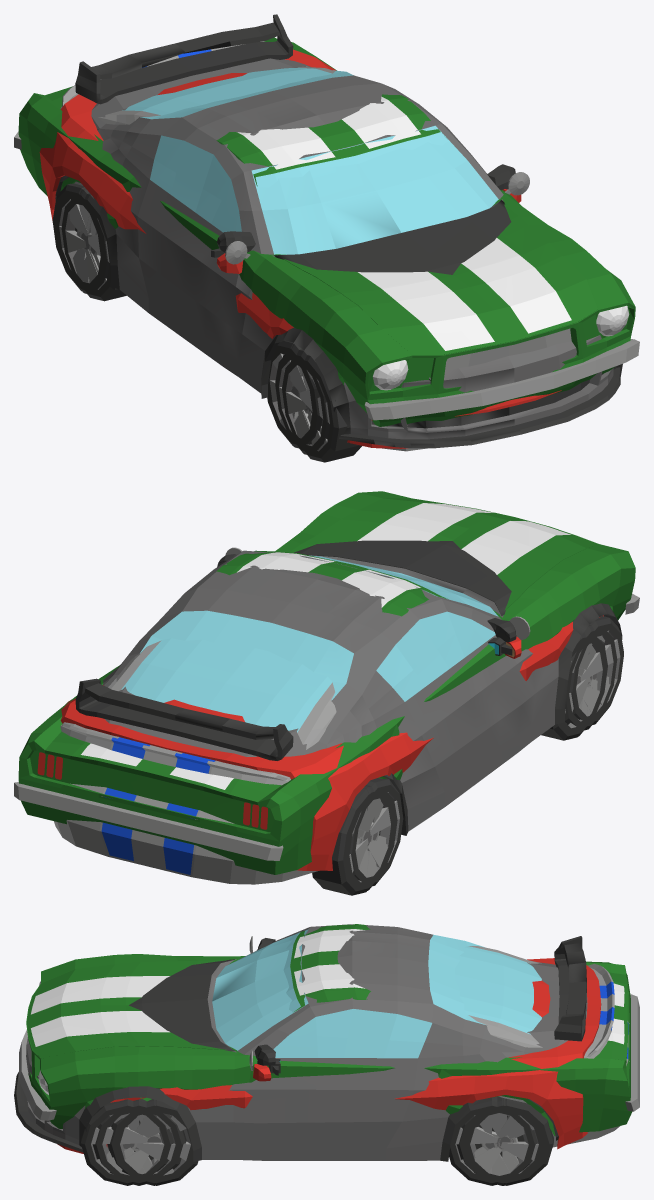
File: Car_Factory_Cars_Retransformed.fbx
3 views of the same model, one above another, from view 1: azimuth 30°, elevation 25°; view 2: azimuth 150°, elevation 25°; view 3: azimuth 270°, elevation 25° (orthographic). The views are drawn at different scales.
Parts seen in each view (by area): view 1: Nissan_350z, Ford_Mustang_1969, Ford_Mustang_1969_Hood, Chevrolette_Corvette_C7, Nissan_350z_Hood, Shelby_Gt500, Ford_Mustang_1969_Front_Tire_Right, Shelby_Gt500_Rear_Tires, Ford_Mustang_1969_Rear_Tires, Nissan_350z_Front_Tire_Right, Chevrolette_Corvette_C7_Front_Tire_Right, Chevrolette_Corvette_C7_Rear_Tires (+1 smaller); view 2: Nissan_350z, Ford_Mustang_1969, Shelby_Gt500, Ford_Mustang_1969_Hood, Chevrolette_Corvette_C7, Nissan_350z_Hood, Chevrolette_Corvette_C7_Rear_Tires, Shelby_Gt500_Rear_Tires, Ford_Mustang_1969_Front_Tire_Right, Nissan_350z_Front_Tire_Right, Ford_Mustang_1969_Rear_Tires, Shelby_Gt500_Front_Tire_Right (+1 smaller); view 3: Nissan_350z, Ford_Mustang_1969, Ford_Mustang_1969_Hood, Chevrolette_Corvette_C7, Shelby_Gt500, Nissan_350z_Hood, Shelby_Gt500_Rear_Tires, Ford_Mustang_1969_Front_Tire_Left, Chevrolette_Corvette_C7_Rear_Tires, Nissan_350z_Front_Tire_Left, Chevrolette_Corvette_C7_Front_Tire_Left, Nissan_350z_Rear_Tires (+2 smaller).
Boxes of the visible parts, x1=… form: Nissan_350z: x1=55, y1=14, x2=620, y2=448; Ford_Mustang_1969: x1=14, y1=37, x2=639, y2=426; Ford_Mustang_1969_Hood: x1=275, y1=199, x2=598, y2=354; Chevrolette_Corvette_C7: x1=39, y1=49, x2=561, y2=448; Nissan_350z_Hood: x1=274, y1=200, x2=511, y2=274; Shelby_Gt500: x1=60, y1=41, x2=427, y2=451; Ford_Mustang_1969_Front_Tire_Right: x1=282, y1=355, x2=361, y2=462; Shelby_Gt500_Rear_Tires: x1=61, y1=193, x2=126, y2=301; Ford_Mustang_1969_Rear_Tires: x1=55, y1=189, x2=109, y2=293; Nissan_350z_Front_Tire_Right: x1=275, y1=349, x2=329, y2=454; Chevrolette_Corvette_C7_Front_Tire_Right: x1=268, y1=344, x2=323, y2=448; Chevrolette_Corvette_C7_Rear_Tires: x1=52, y1=183, x2=102, y2=291; Nissan_350z: x1=75, y1=550, x2=622, y2=835; Ford_Mustang_1969: x1=14, y1=491, x2=639, y2=874; Shelby_Gt500: x1=54, y1=637, x2=512, y2=884; Ford_Mustang_1969_Hood: x1=289, y1=498, x2=597, y2=616; Chevrolette_Corvette_C7: x1=60, y1=615, x2=603, y2=870; Nissan_350z_Hood: x1=294, y1=540, x2=511, y2=615; Chevrolette_Corvette_C7_Rear_Tires: x1=312, y1=788, x2=393, y2=895; Shelby_Gt500_Rear_Tires: x1=349, y1=778, x2=403, y2=886; Ford_Mustang_1969_Front_Tire_Right: x1=569, y1=616, x2=623, y2=724; Nissan_350z_Front_Tire_Right: x1=565, y1=625, x2=617, y2=730; Ford_Mustang_1969_Rear_Tires: x1=346, y1=785, x2=397, y2=889; Shelby_Gt500_Front_Tire_Right: x1=541, y1=636, x2=606, y2=740; Nissan_350z: x1=14, y1=924, x2=587, y2=1161; Ford_Mustang_1969: x1=19, y1=924, x2=639, y2=1135; Ford_Mustang_1969_Hood: x1=27, y1=960, x2=236, y2=1058; Chevrolette_Corvette_C7: x1=57, y1=958, x2=601, y2=1153; Shelby_Gt500: x1=268, y1=946, x2=629, y2=1147; Nissan_350z_Hood: x1=129, y1=959, x2=234, y2=1051; Shelby_Gt500_Rear_Tires: x1=449, y1=1097, x2=537, y2=1185; Ford_Mustang_1969_Front_Tire_Left: x1=80, y1=1099, x2=174, y2=1185; Chevrolette_Corvette_C7_Rear_Tires: x1=464, y1=1098, x2=553, y2=1185; Nissan_350z_Front_Tire_Left: x1=92, y1=1099, x2=185, y2=1185; Chevrolette_Corvette_C7_Front_Tire_Left: x1=107, y1=1099, x2=193, y2=1185; Nissan_350z_Rear_Tires: x1=461, y1=1098, x2=546, y2=1185.
Bounding box in the file's own units: 4.92 × 3.24 × 10.61.
